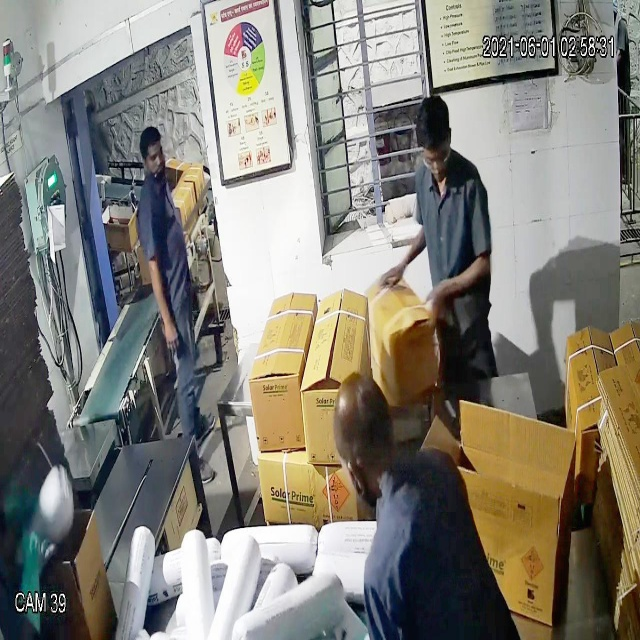Gafas: (419, 135, 455, 174)
